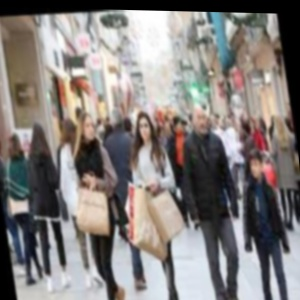zara: (90, 113, 240, 300)
